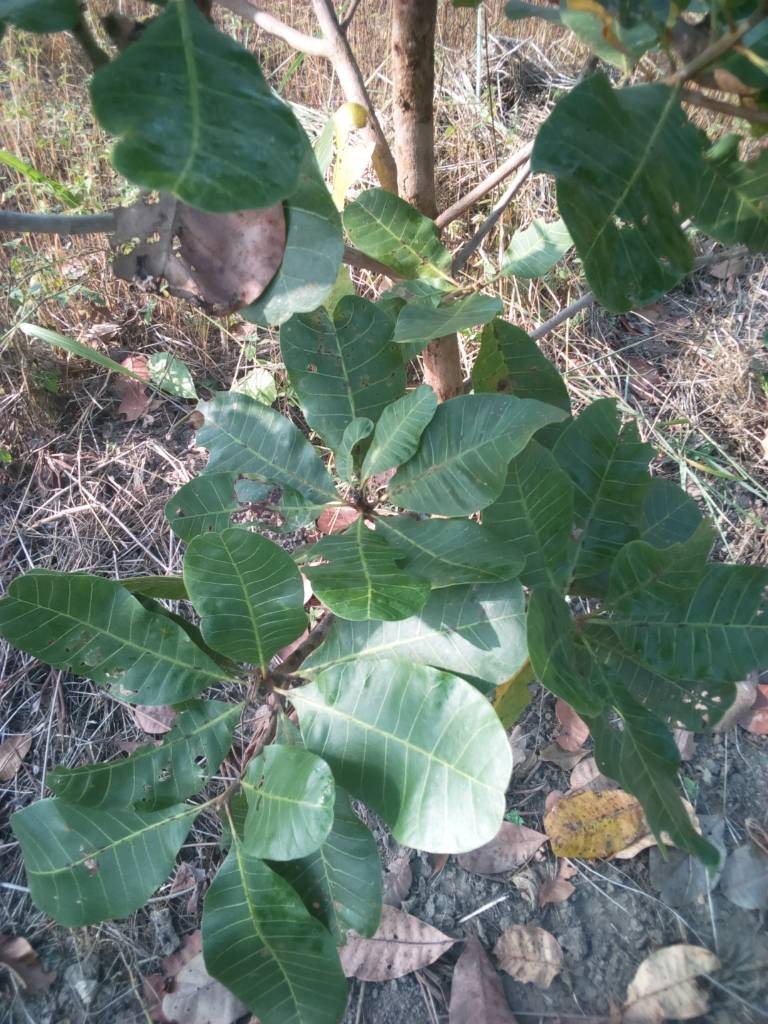Helopeltis anacardii: (536, 63, 729, 305), (91, 5, 305, 207), (43, 697, 241, 814)
